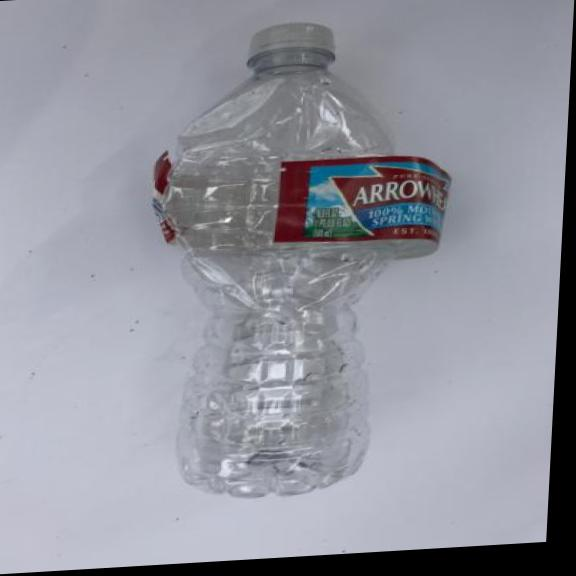Plastik: (126, 7, 466, 509)
